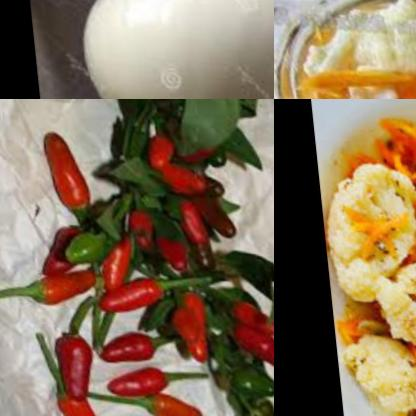carrot: (384, 52, 416, 99)
cayliflower: (315, 154, 416, 304), (306, 0, 416, 94), (328, 310, 416, 412), (352, 245, 416, 350)
hot pepper: (35, 125, 92, 217), (215, 274, 274, 362), (13, 256, 97, 308), (39, 322, 90, 405), (177, 166, 239, 232), (156, 291, 214, 360), (85, 227, 140, 298), (87, 277, 170, 323), (32, 215, 87, 280), (126, 211, 187, 269), (82, 323, 160, 366), (43, 377, 110, 416), (98, 365, 168, 401), (131, 383, 200, 416), (154, 159, 209, 200), (128, 130, 178, 174), (171, 192, 210, 246)
onion: (61, 0, 274, 99)
